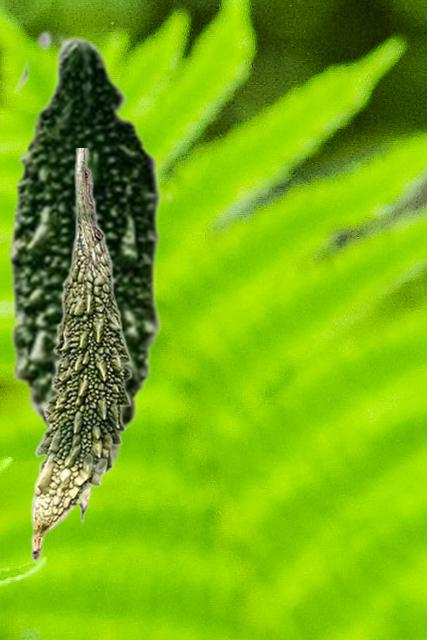ampalaya: (7, 29, 172, 481), (30, 148, 132, 562)
